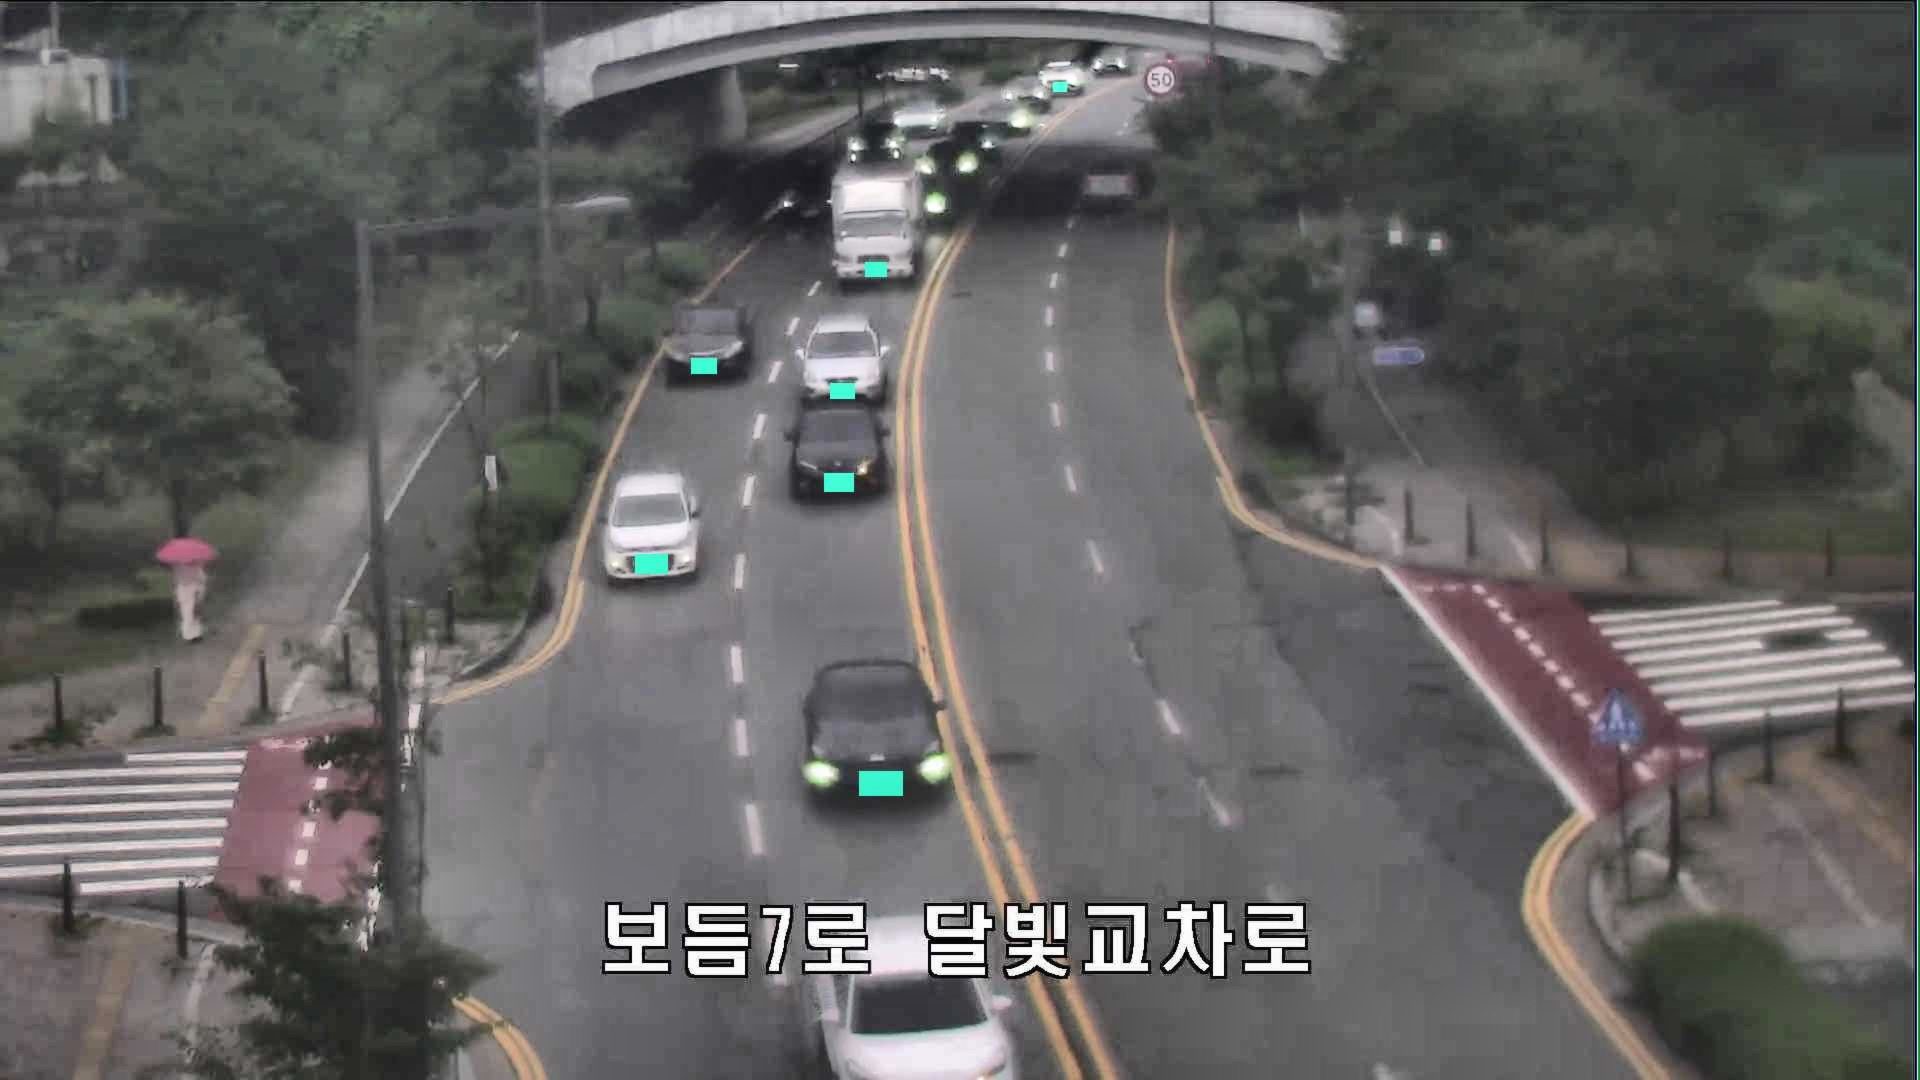um_sidewalk: (156, 535, 227, 647)
